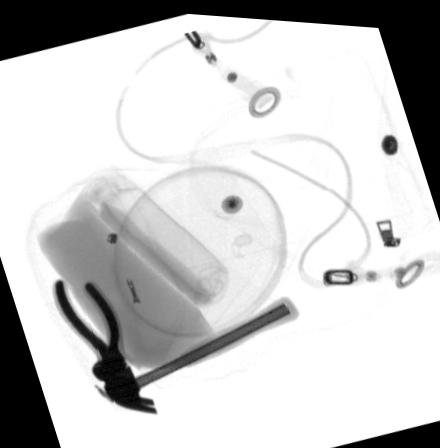Hammer: (89, 290, 299, 410)
Pliers: (50, 276, 132, 384)
